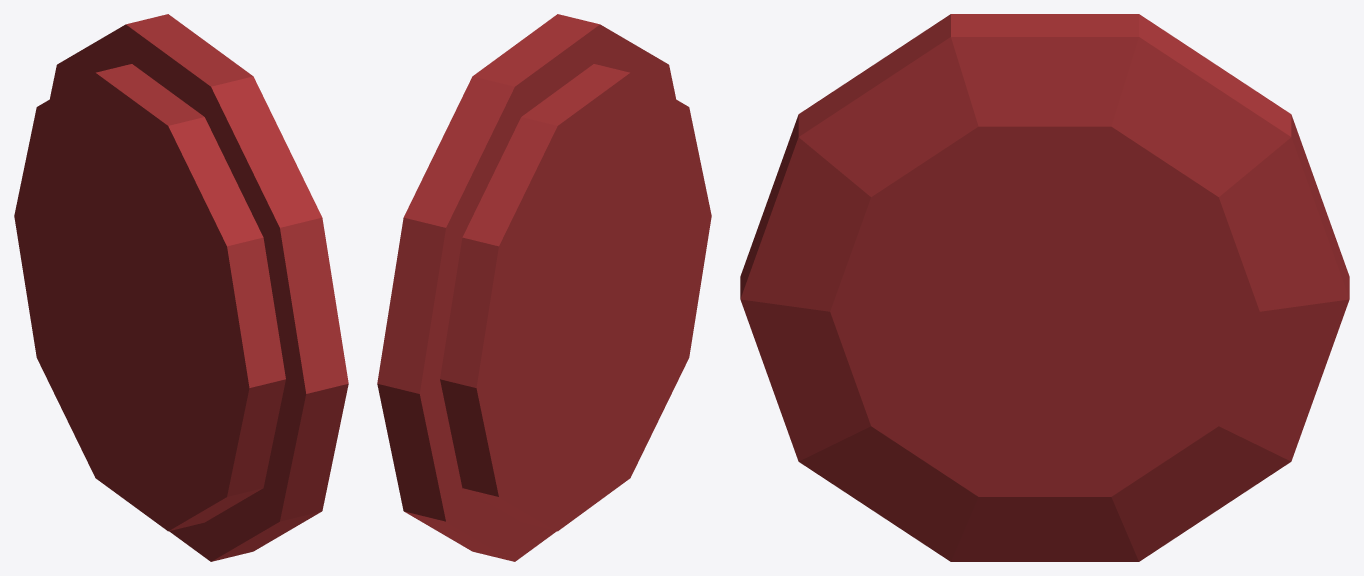
The model's file is magnet1.fbx.
The picture shows the model from 3 angles, left to right: view 1: azimuth 30°, elevation 25°; view 2: azimuth 150°, elevation 25°; view 3: azimuth 270°, elevation 25°; orthographic projection. The views are drawn at different scales.
Visible parts, largest first — view 1: magnet1; view 2: magnet1; view 3: magnet1.
Part boxes in pixels (x1=…): magnet1: x1=14, y1=14, x2=348, y2=561; magnet1: x1=377, y1=14, x2=711, y2=561; magnet1: x1=740, y1=14, x2=1349, y2=561.
Bounding box in the file's own units: 0.5001 × 2.34 × 2.23.
